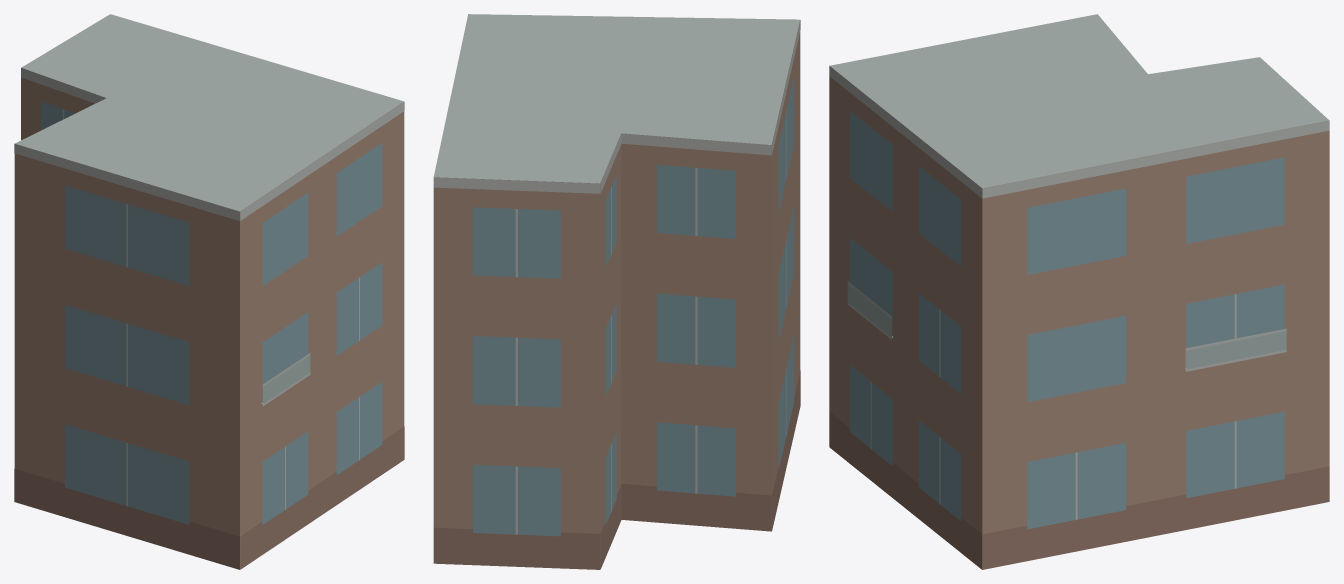
The model's file is survey-upis-32598517.glb.
3 views of the same model, side by side, from view 1: azimuth 30°, elevation 25°; view 2: azimuth 150°, elevation 25°; view 3: azimuth 270°, elevation 25° (orthographic). The views are drawn at different scales.
Parts seen in each view (by area): view 1: survey-upis-32598517.tmp; view 2: survey-upis-32598517.tmp; view 3: survey-upis-32598517.tmp.
Part boxes in pixels (<box>): survey-upis-32598517.tmp: <box>14,14,404,569</box>; survey-upis-32598517.tmp: <box>433,14,800,569</box>; survey-upis-32598517.tmp: <box>829,14,1329,569</box>.
Size of the model in its own units: 8.93 by 9.1 by 10.82.
